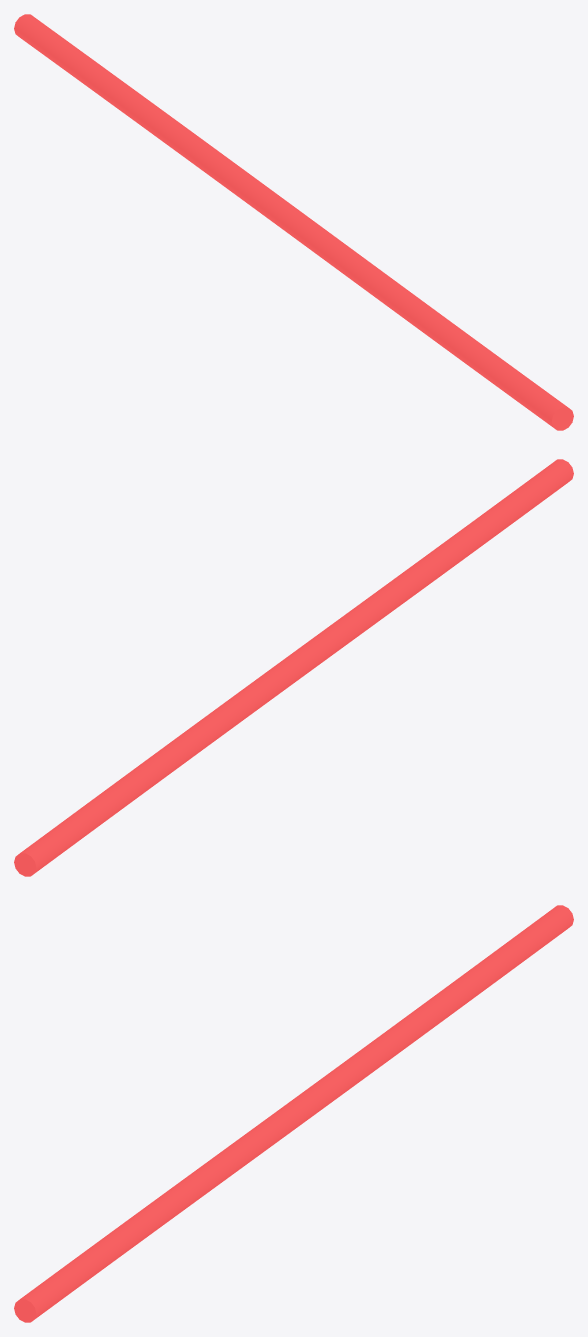
Rendered from red.glb.
The picture shows the model from 3 angles, top to bottom: view 1: azimuth 30°, elevation 25°; view 2: azimuth 150°, elevation 25°; view 3: azimuth 330°, elevation 25°; orthographic projection.
Visible parts, largest first — view 1: BezierCurve.002; view 2: BezierCurve.002; view 3: BezierCurve.002.
Part boxes in pixels (x1,y1,x2,y2): BezierCurve.002: (14, 14, 573, 430); BezierCurve.002: (14, 459, 573, 876); BezierCurve.002: (14, 905, 573, 1322).
Bounding box in the file's own units: 49.55 × 48 × 1998.
